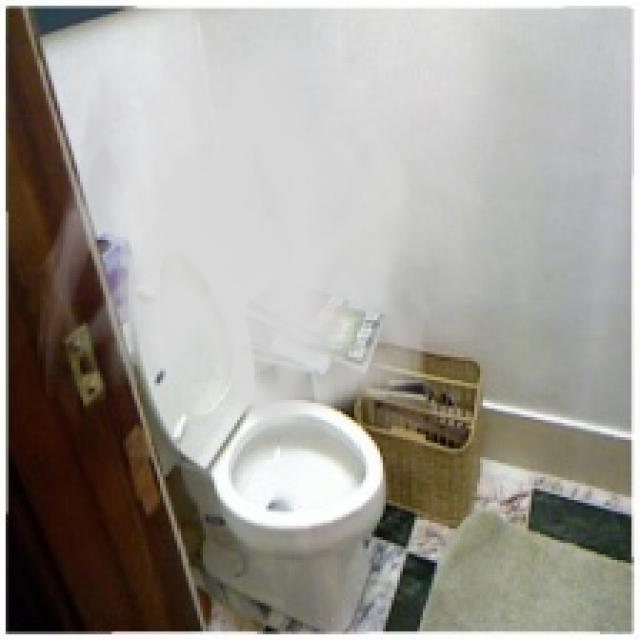Smoke: (34, 22, 437, 432)
